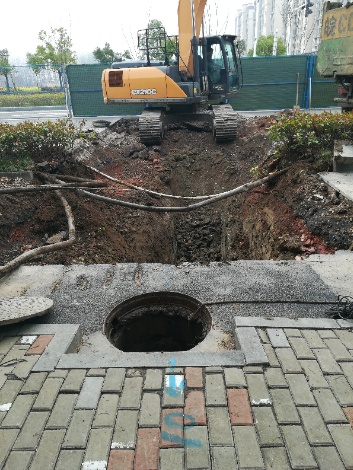lose: (103, 290, 212, 352)
